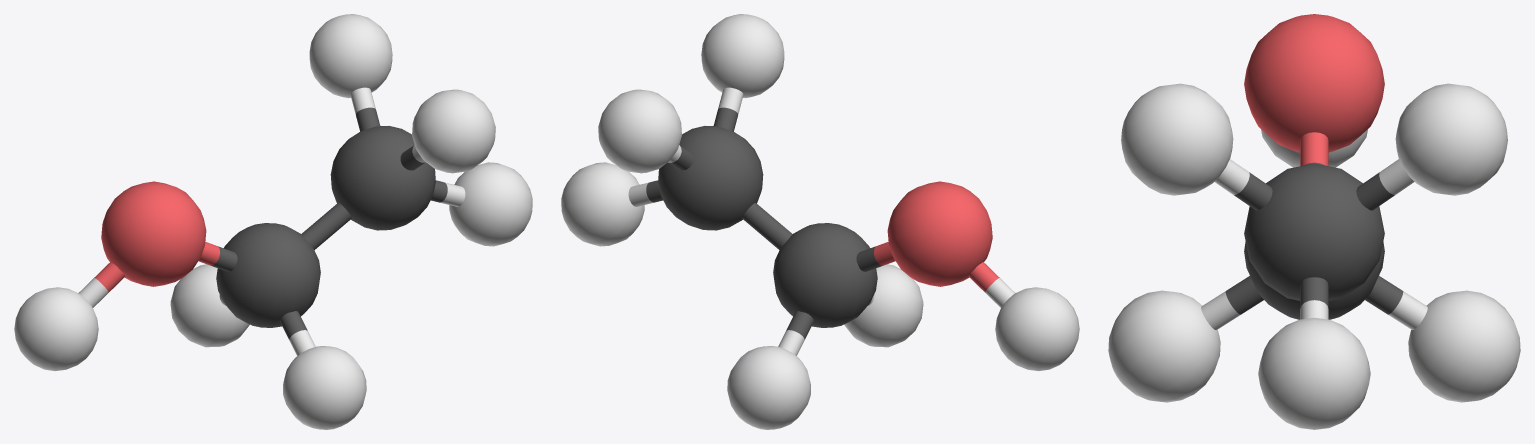
Rendered from 06_Bioetanol.fbx.
3 renders of one model, left to right at view 1: azimuth 30°, elevation 25°; view 2: azimuth 150°, elevation 25°; view 3: azimuth 270°, elevation 25°, orthographic. The views are drawn at different scales.
Parts seen in each view (by area): view 1: m_bioetanol; view 2: m_bioetanol; view 3: m_bioetanol.
Part boxes in pixels (<box>): m_bioetanol: <box>14,14,532,429</box>; m_bioetanol: <box>561,14,1079,429</box>; m_bioetanol: <box>1108,14,1520,429</box>.
Size of the model in its own units: 585 by 620 by 1110.
